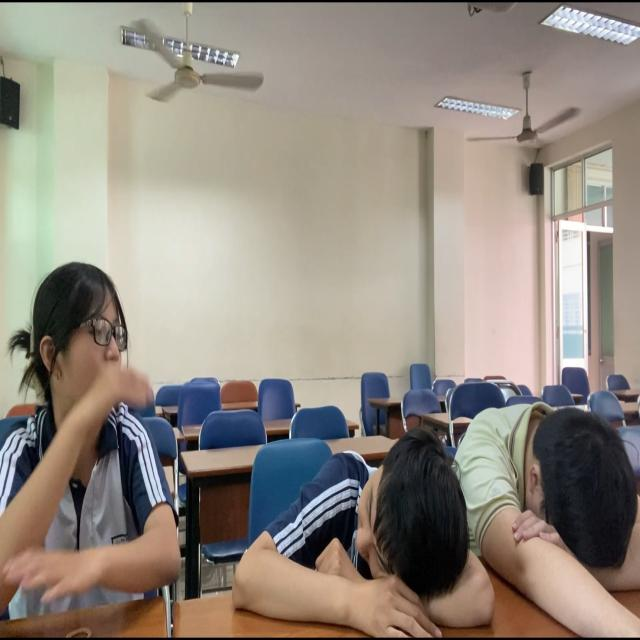sleep: (230, 430, 493, 640), (463, 393, 640, 640)
